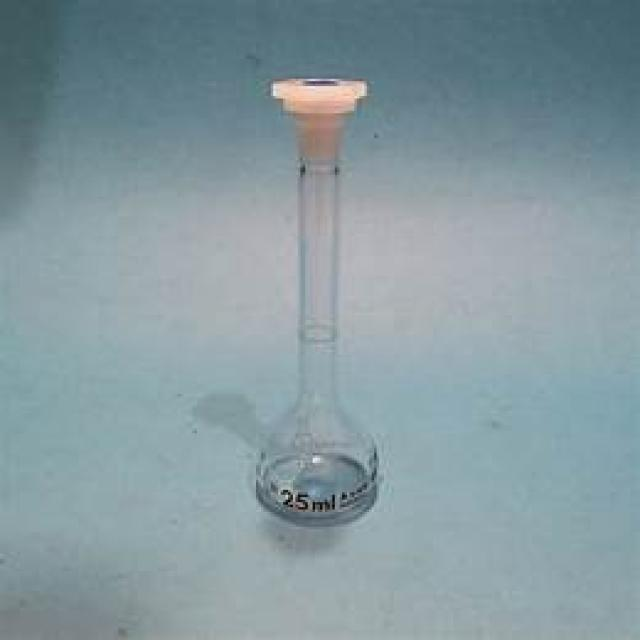Volumetric flask: (251, 72, 391, 531)
